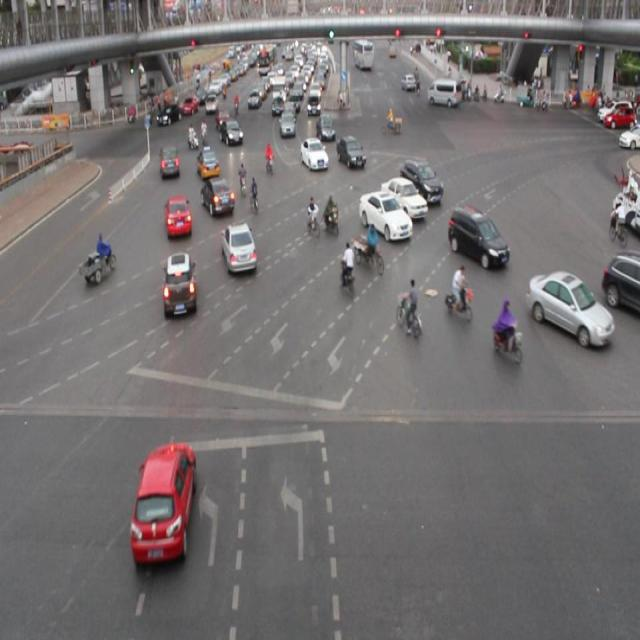car: (130, 439, 196, 562), (527, 270, 607, 343), (447, 203, 507, 270), (358, 190, 412, 240), (162, 251, 200, 319), (602, 249, 640, 313), (398, 155, 442, 209), (381, 173, 426, 220), (220, 220, 258, 273), (201, 177, 234, 219), (165, 195, 192, 241), (334, 134, 366, 172), (298, 136, 328, 171), (195, 145, 219, 179), (159, 144, 181, 180)
